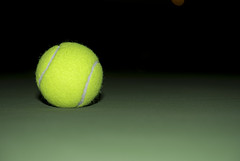tennis ball: (35, 34, 107, 112)
